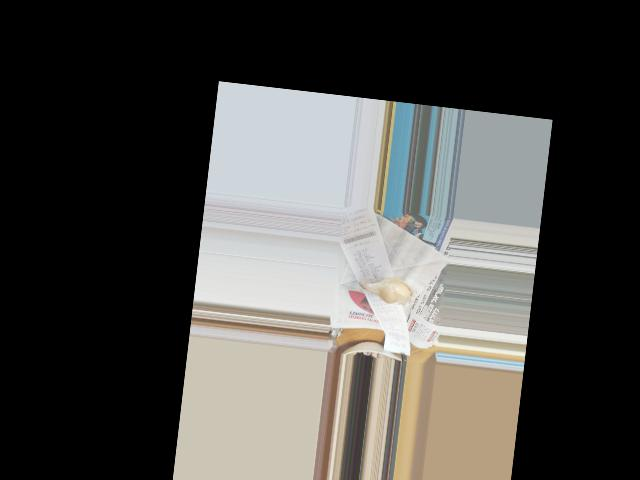onion: (371, 273, 411, 306)
